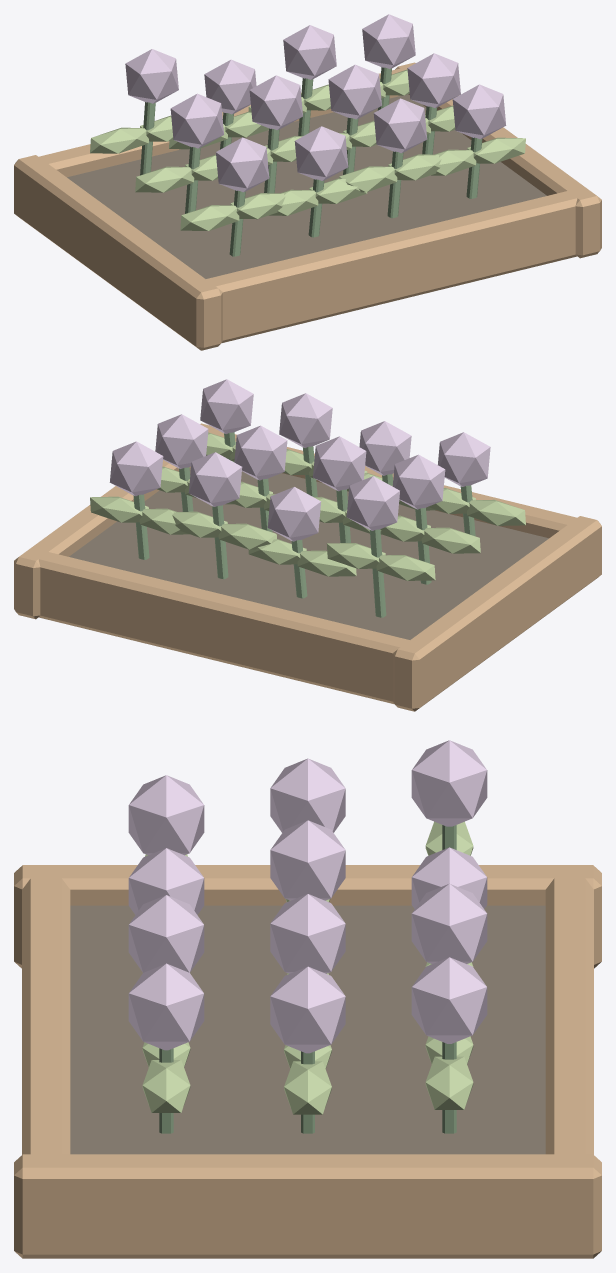
The model's file is catnip_plot.fbx.
3 views of the same model, one above another, from view 1: azimuth 30°, elevation 25°; view 2: azimuth 150°, elevation 25°; view 3: azimuth 270°, elevation 25° (orthographic). The views are drawn at different scales.
Visible parts, largest first — view 1: catnip_plot_mesh; view 2: catnip_plot_mesh; view 3: catnip_plot_mesh.
Boxes of the visible parts, box(x1,y1,x2,y2) form: catnip_plot_mesh: box(14, 14, 601, 350); catnip_plot_mesh: box(14, 379, 601, 711); catnip_plot_mesh: box(14, 740, 601, 1258).
Size of the model in its own units: 1.82 by 0.7902 by 1.46.
